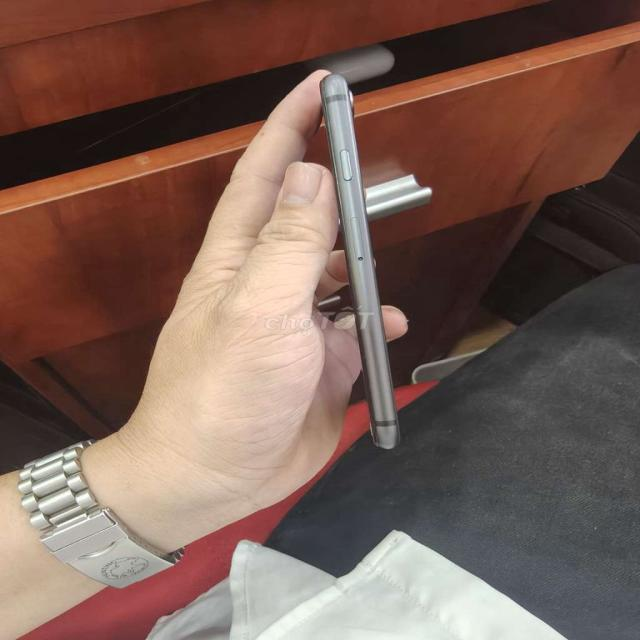scratch: (304, 66, 409, 460)
